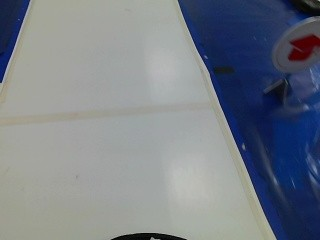school: (268, 14, 318, 73)
